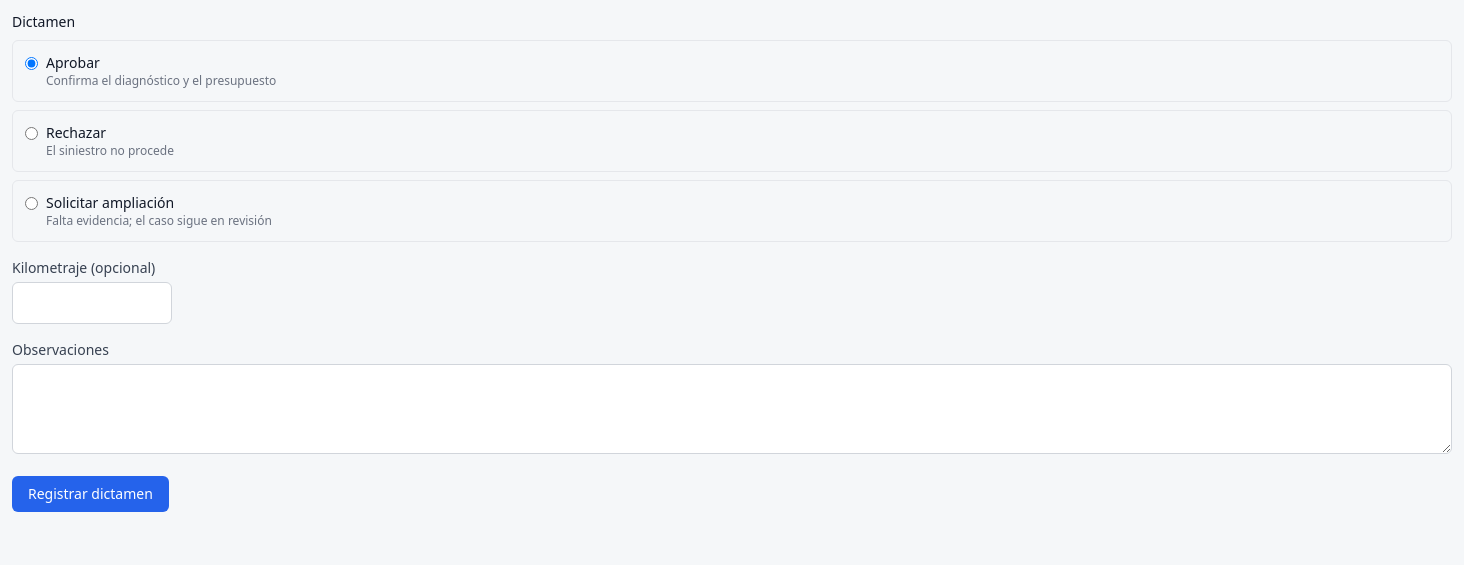
Test case: VerdictForm › debería limpiar el error al corregir
Click the radio button labelled "Rechazar El siniestro no procede" at (32, 134), box x1=25 y1=127 x2=38 y2=140
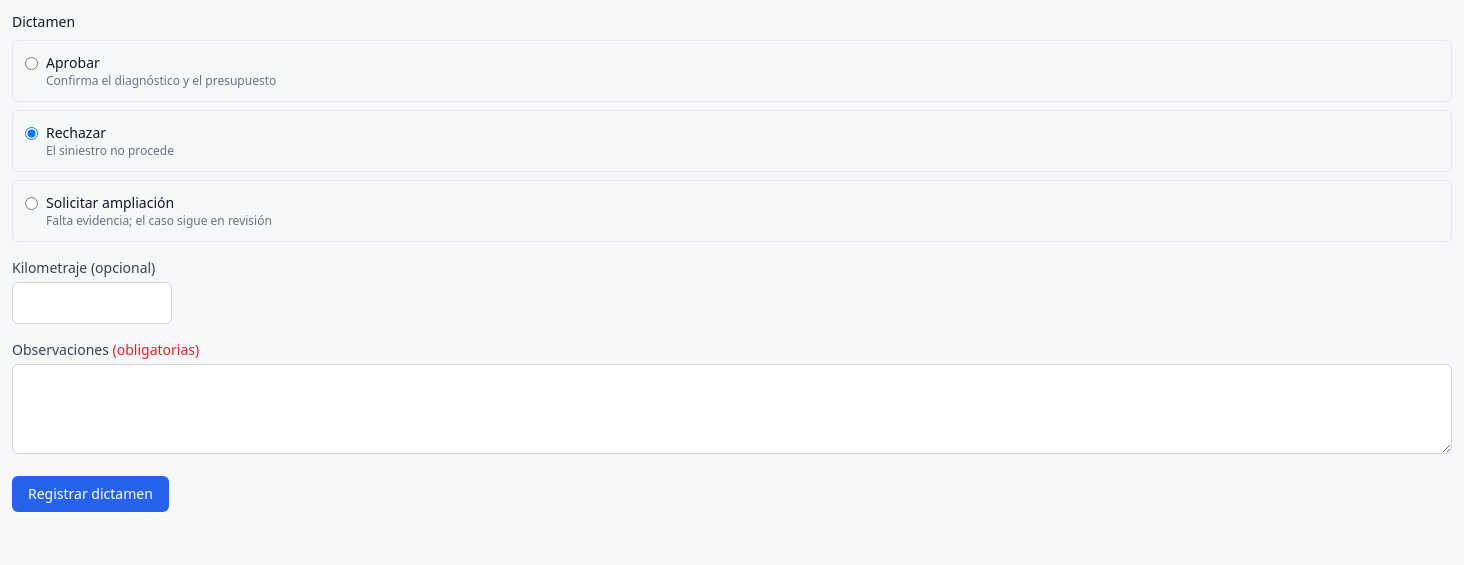
Click the button "Registrar dictamen" at (90, 494), box x1=12 y1=476 x2=169 y2=512
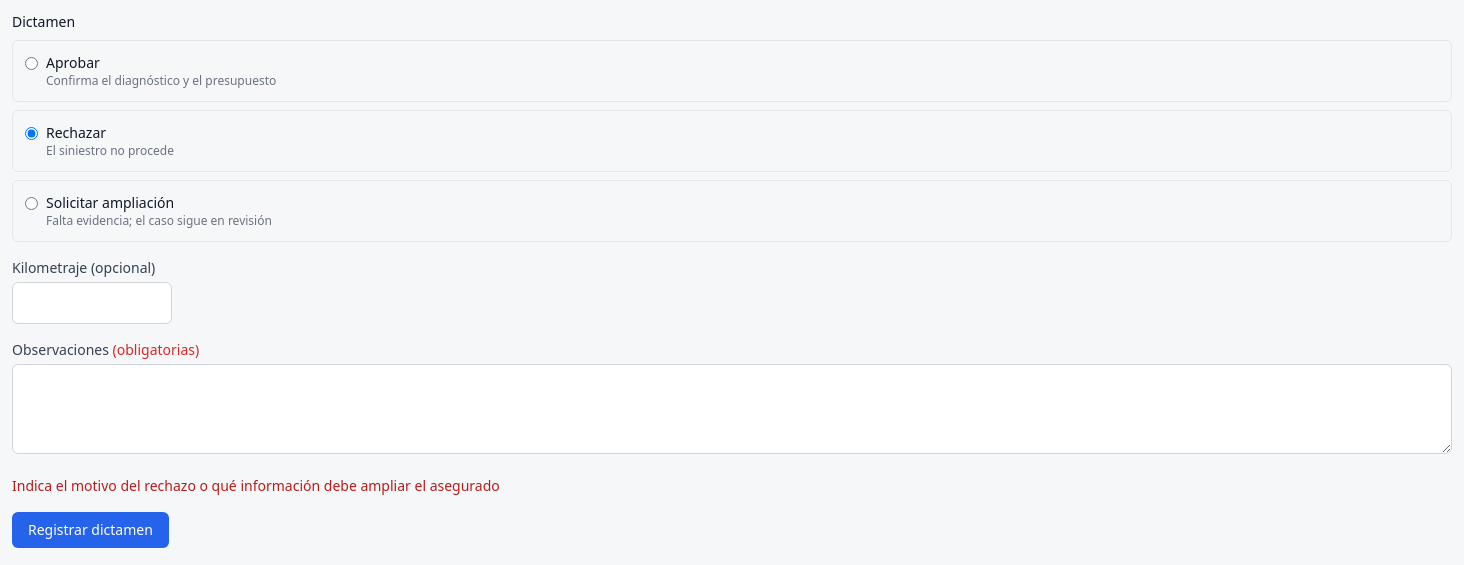
Expected: the message "Indica el motivo del rechazo o qué información debe ampliar el asegurado" is shown, x1=12 y1=476 x2=500 y2=495
Type "Observación de rechazo" into the text box labelled "Observaciones (obligatorias)" at (732, 409), box x1=12 y1=364 x2=1452 y2=454
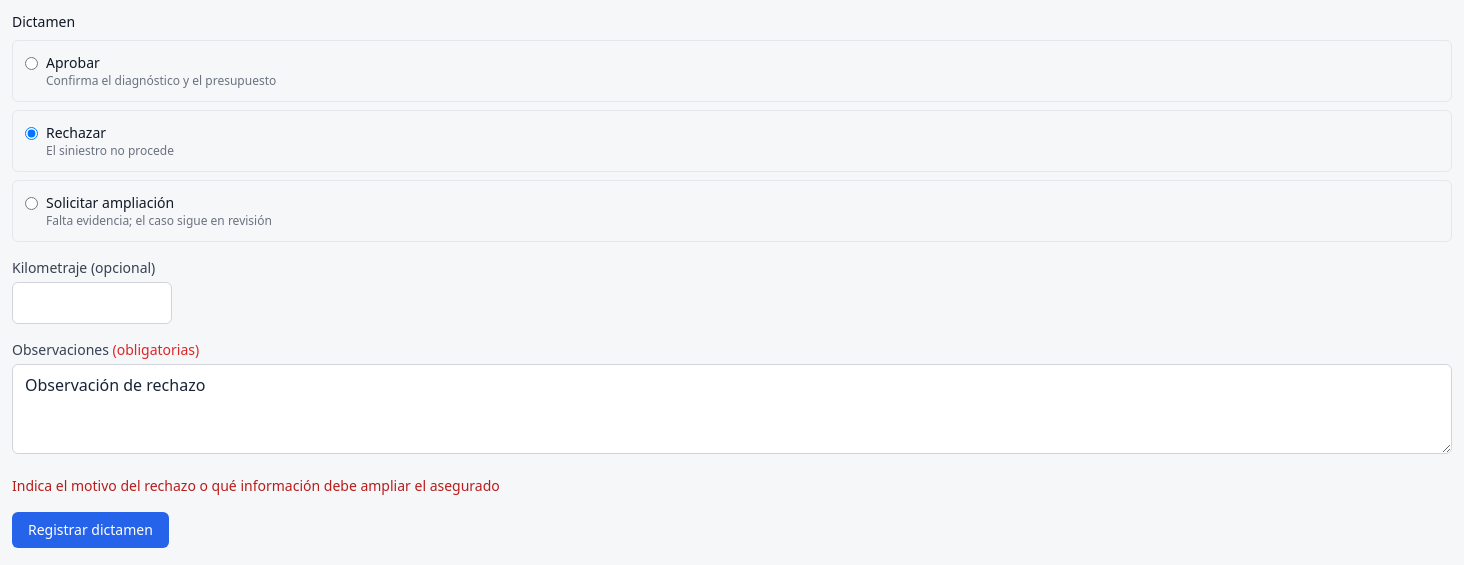
Click the button "Registrar dictamen" at (90, 530), box x1=12 y1=512 x2=169 y2=548
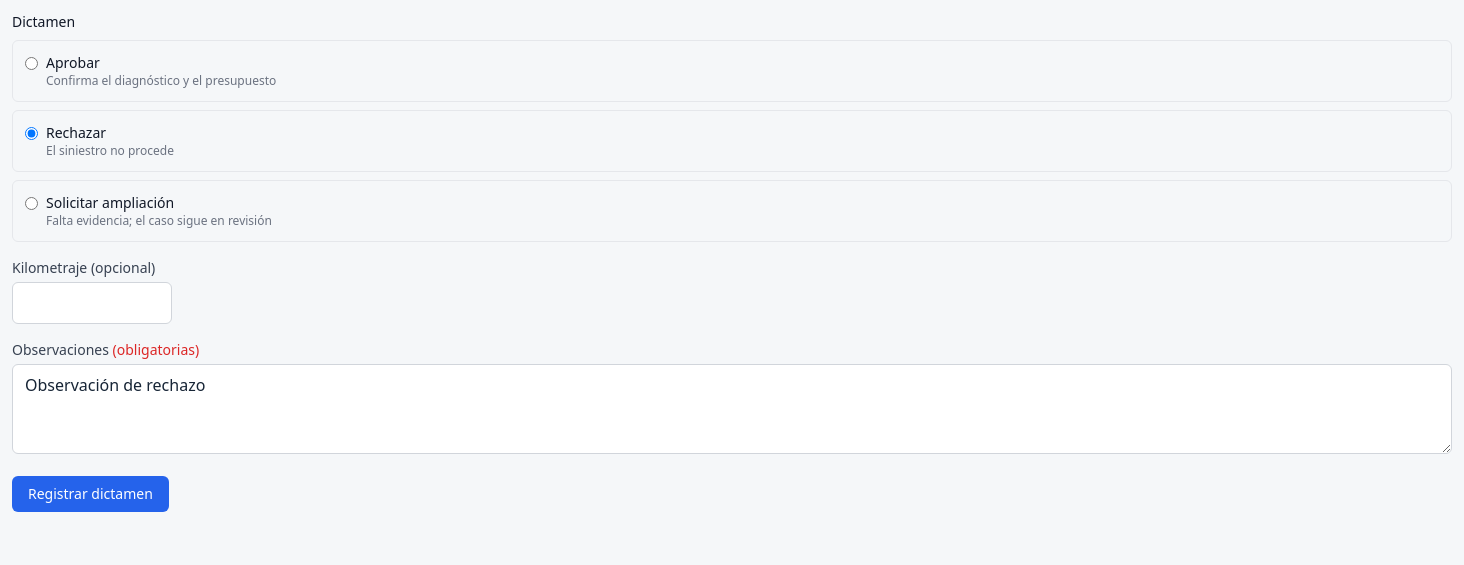
Expected: the message "Indica el motivo del rechazo o qué información debe ampliar el asegurado" is gone
